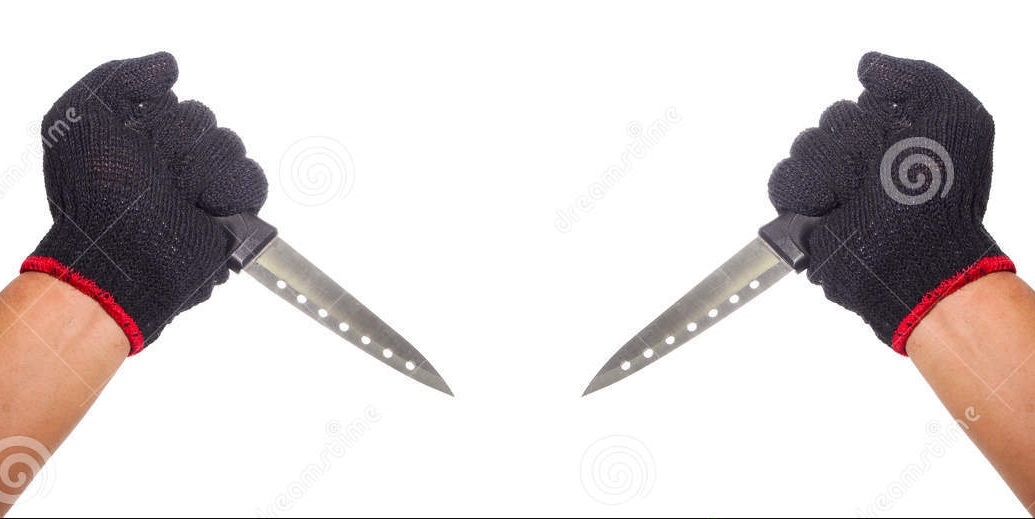knife: (570, 91, 891, 401), (140, 102, 463, 401)
